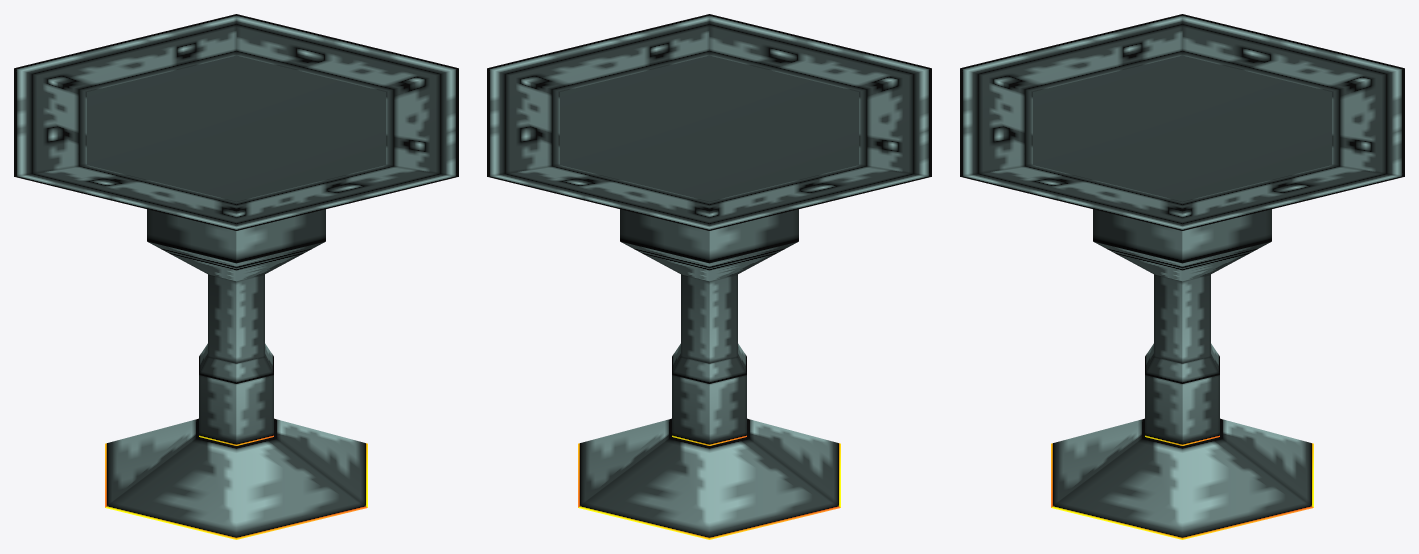
File: deco_cathedral_candelier.FBX
The picture shows the model from 3 angles, left to right: view 1: azimuth 30°, elevation 25°; view 2: azimuth 150°, elevation 25°; view 3: azimuth 270°, elevation 25°; orthographic projection.
Parts seen in each view (by area): view 1: deco_cathedral_candelier; view 2: deco_cathedral_candelier; view 3: deco_cathedral_candelier.
Part boxes in pixels (x1,y1,x2,y2): deco_cathedral_candelier: (14, 14, 458, 539); deco_cathedral_candelier: (487, 14, 931, 539); deco_cathedral_candelier: (960, 14, 1404, 539).
Bounding box in the file's own units: 2.01 × 1.53 × 1.74.
1 material, 1 textured.
